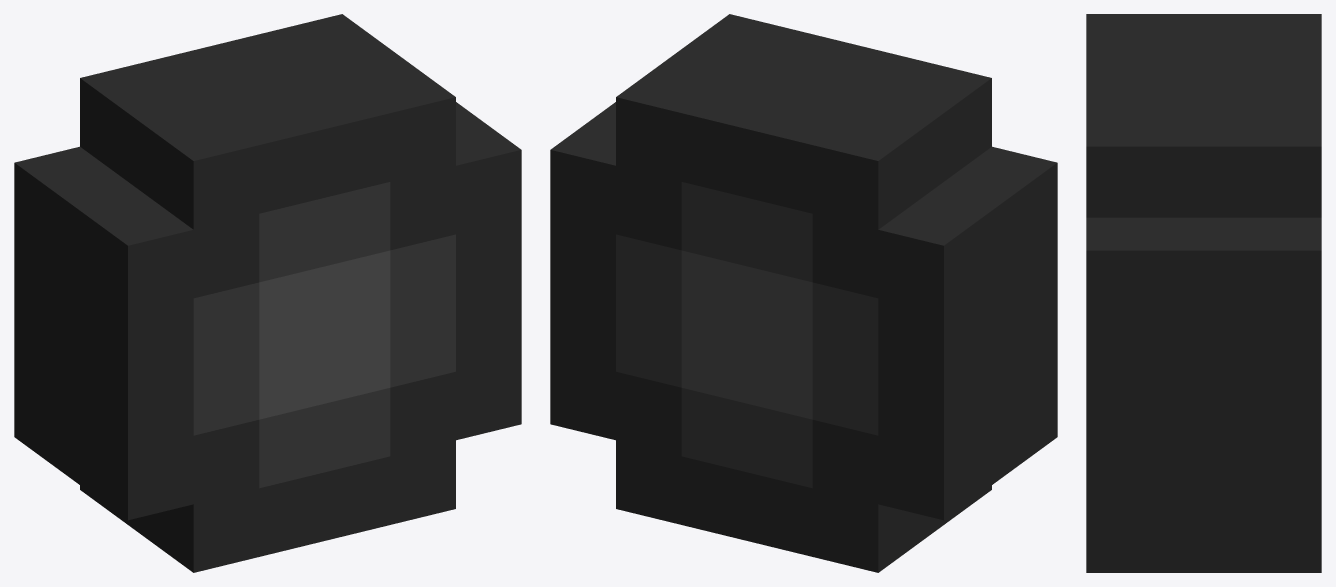
File: tire-1.obj
3 renders of one model, left to right at view 1: azimuth 30°, elevation 25°; view 2: azimuth 150°, elevation 25°; view 3: azimuth 270°, elevation 25°, orthographic. The views are drawn at different scales.
Bounding box in the file's own units: 0.6 × 0.6 × 0.3.
